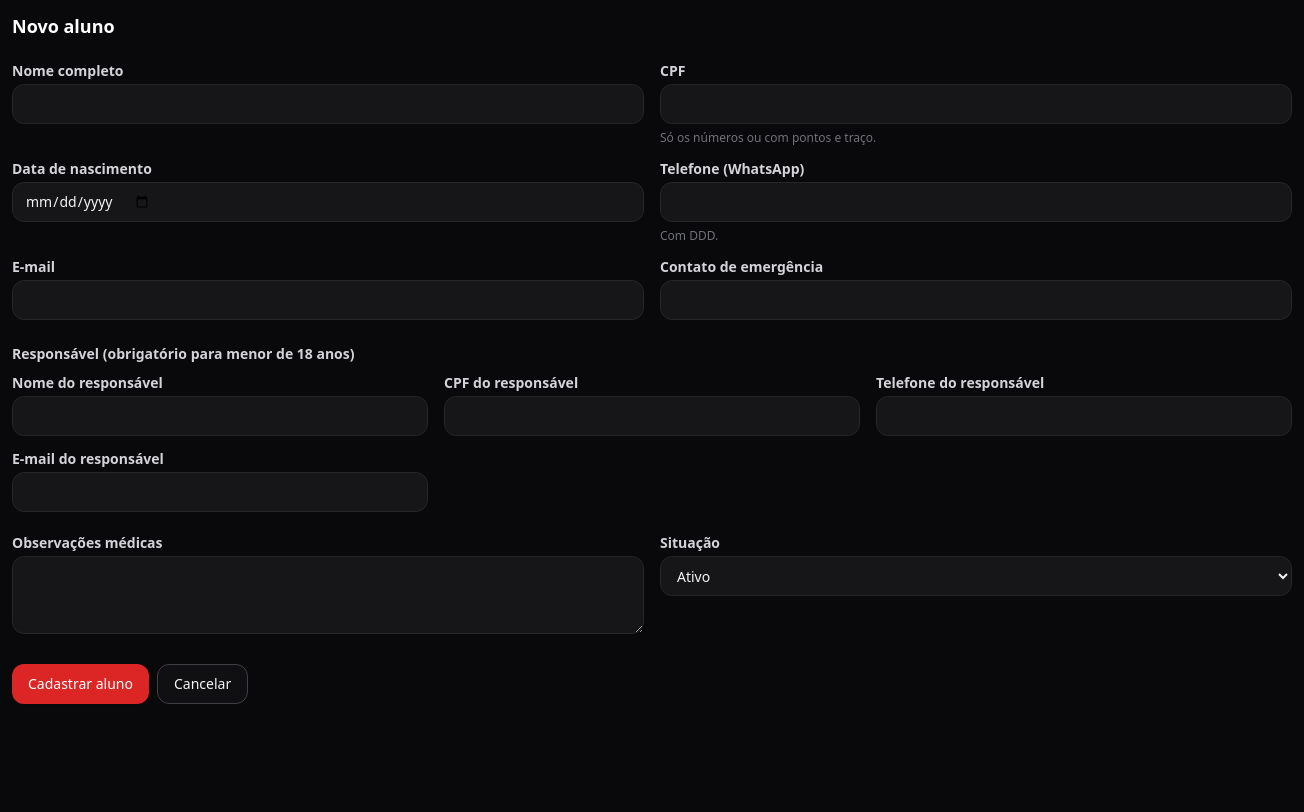
Test: Painel: alunos › cadastro e edição › valida antes de gravar e mostra o erro em cada campo
Type "123" into the field labelled "CPF".
click(976, 104); type("123")  # box [660, 84, 1292, 124]
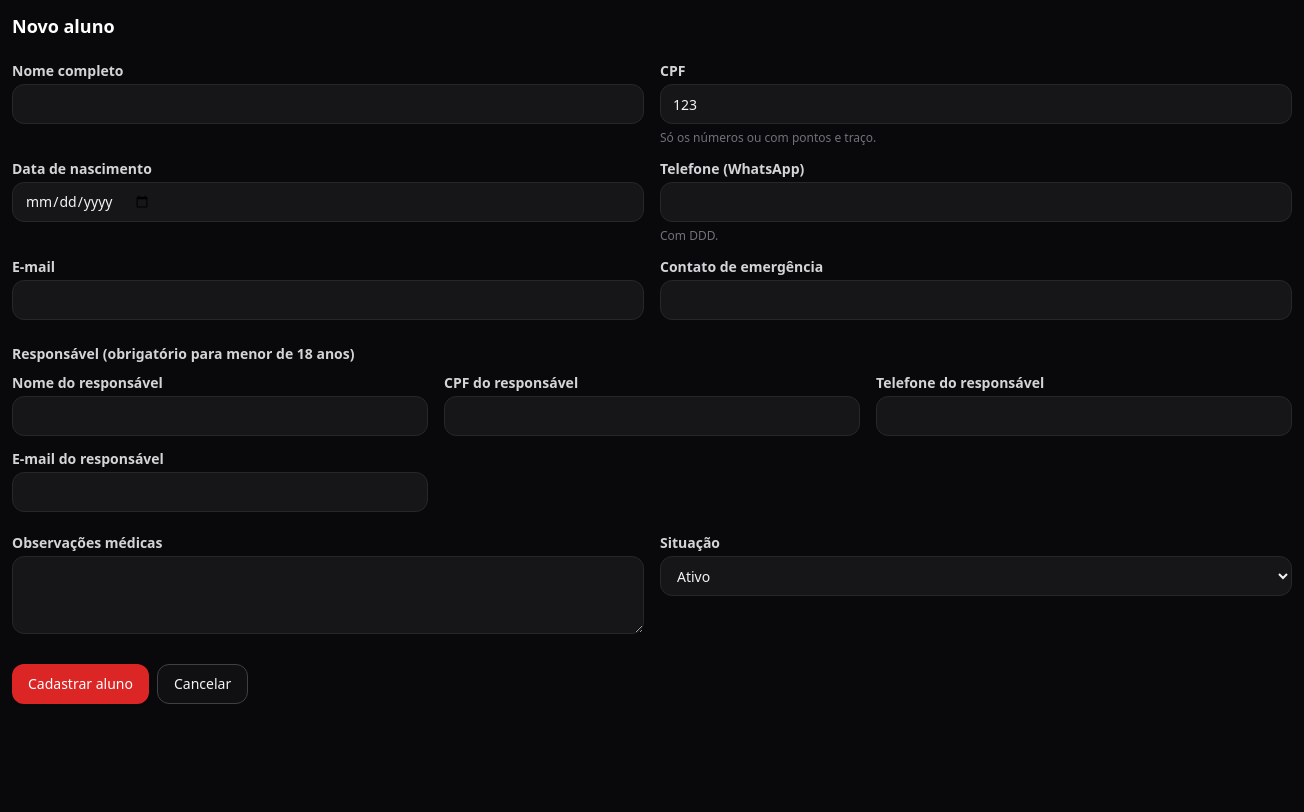
Click the button "Cadastrar aluno".
click(80, 684)  # box [12, 664, 149, 704]
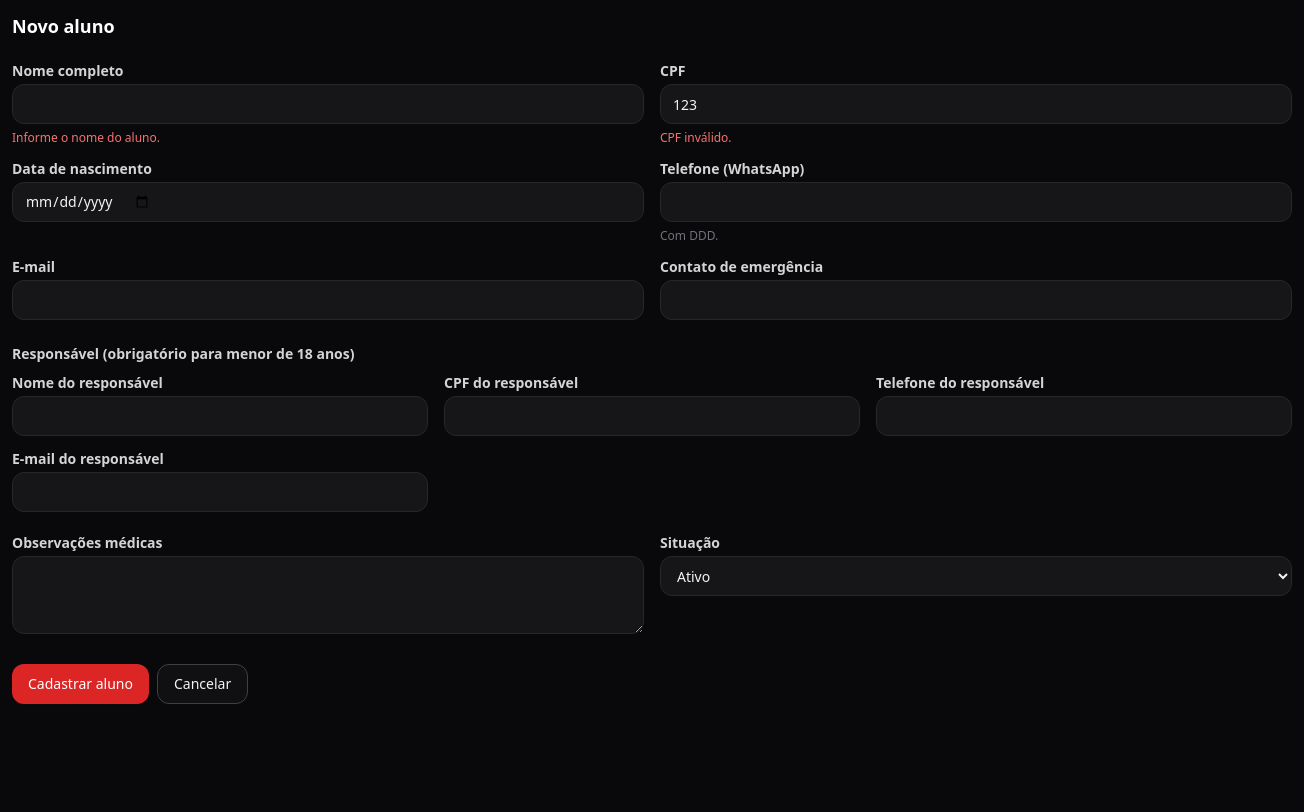
Now the text "Informe o nome do aluno." is shown, box [12, 129, 160, 146]
